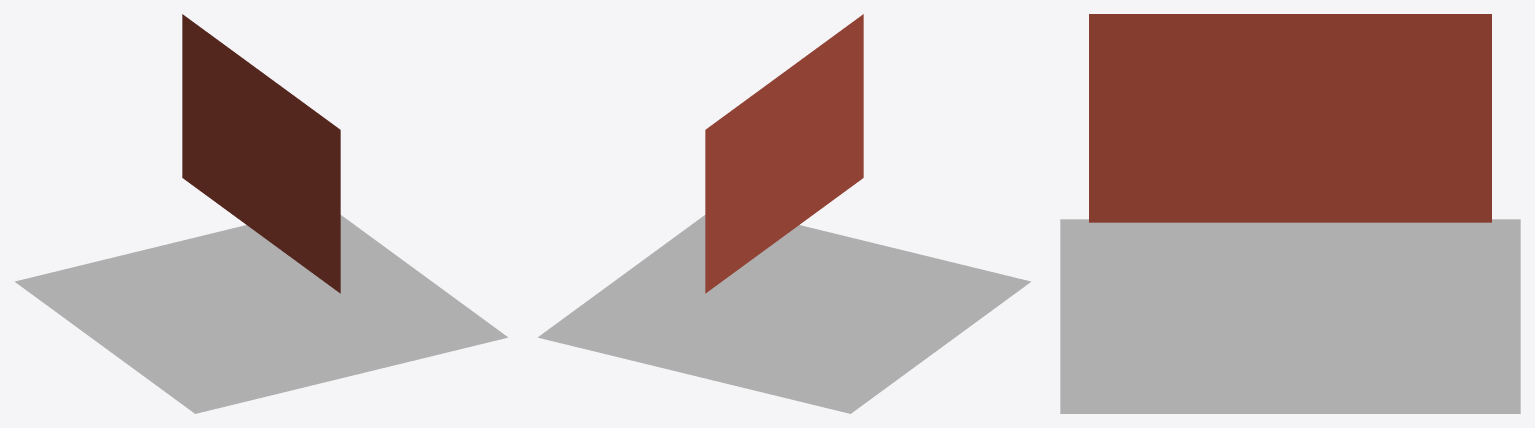
Rendered from floor_wall.glb.
3 views of the same model, side by side, from view 1: azimuth 30°, elevation 25°; view 2: azimuth 150°, elevation 25°; view 3: azimuth 270°, elevation 25° (orthographic). The views are drawn at different scales.
Parts seen in each view (by area): view 1: floor, wall; view 2: floor, wall; view 3: floor, wall.
Part boxes in pixels (x1=…): floor: x1=15, y1=215, x2=507, y2=413; wall: x1=182, y1=14, x2=340, y2=293; floor: x1=538, y1=215, x2=1030, y2=413; wall: x1=705, y1=14, x2=863, y2=293; floor: x1=1060, y1=219, x2=1520, y2=413; wall: x1=1089, y1=14, x2=1491, y2=222.
Bounding box in the file's own units: 4 × 2.9 × 4.
